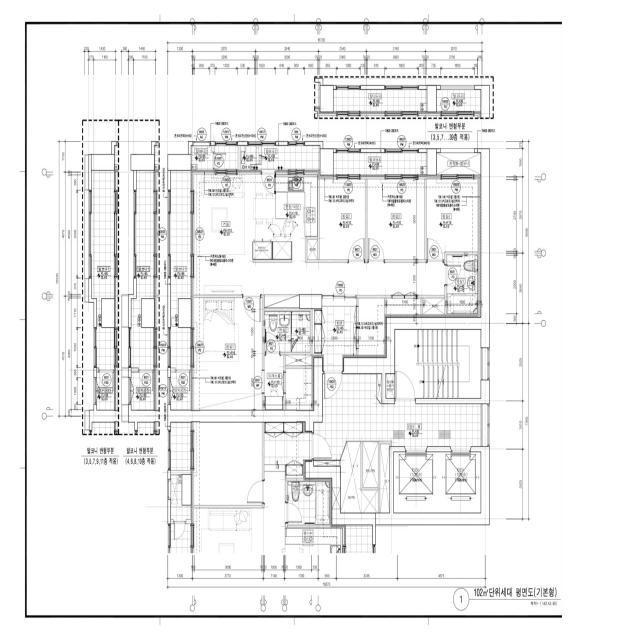space_balconi: (171, 170, 193, 370), (333, 153, 427, 177), (241, 146, 320, 173), (437, 153, 481, 175), (191, 146, 213, 172), (215, 146, 238, 168)
space_bedroom: (194, 298, 262, 410), (426, 175, 481, 259), (368, 179, 424, 260), (320, 175, 365, 259)
space_dressroom: (286, 369, 314, 410), (264, 355, 283, 410)
space_elevator: (394, 452, 440, 513), (440, 452, 481, 513)
space_elevator_hall: (314, 374, 481, 460)
space_front: (314, 298, 356, 371), (358, 299, 386, 358)
space_kitchen: (253, 174, 317, 260)
space_living_room: (194, 174, 444, 308), (387, 298, 421, 317)
space_other: (340, 442, 378, 513), (171, 372, 193, 410), (380, 444, 390, 513), (363, 442, 378, 487), (423, 298, 445, 317), (286, 355, 314, 365), (386, 374, 394, 398), (307, 240, 317, 259), (314, 461, 340, 466)
space_staircase: (395, 330, 481, 398)
space_toilet: (447, 255, 481, 317), (265, 311, 310, 351)
